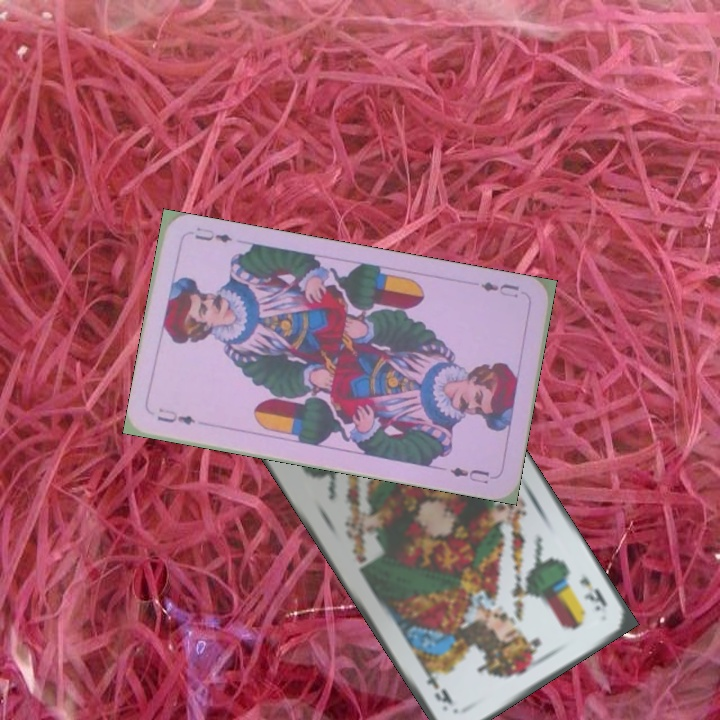EK: (575, 573, 610, 614)
EU: (153, 404, 198, 428), (476, 278, 522, 300)
